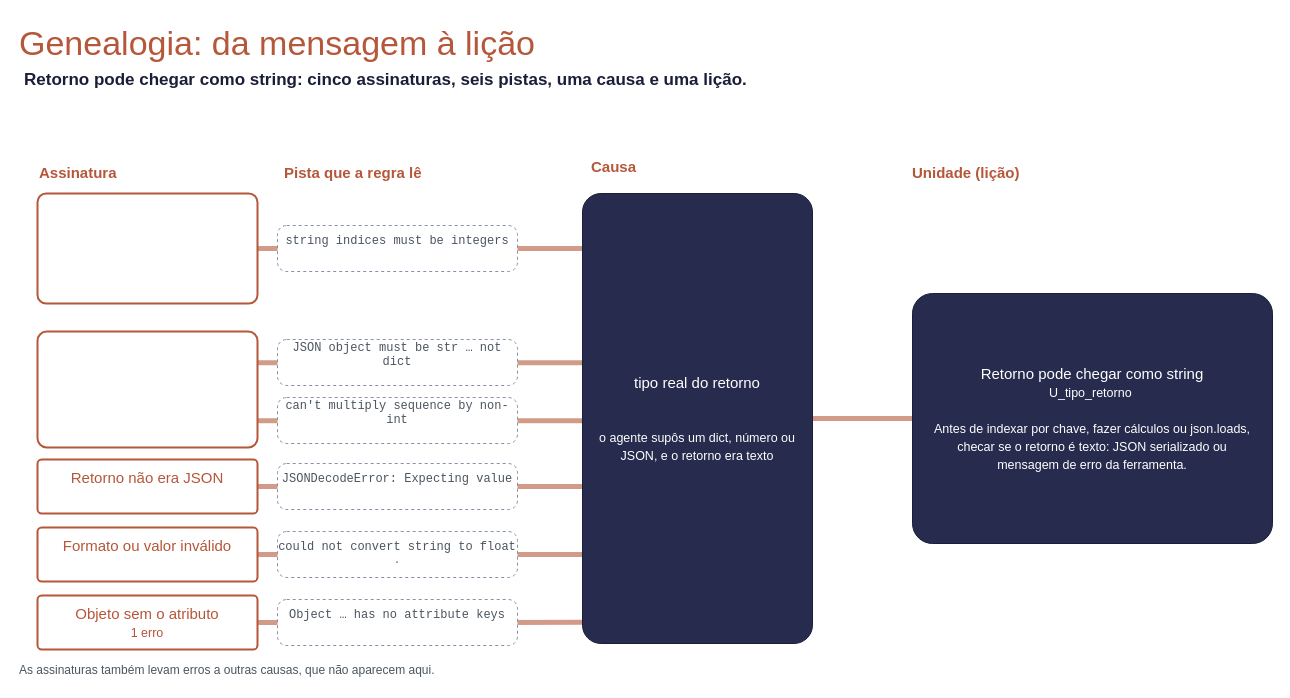
This 1290x698 diagram has some shape labels left out. Here are the shapes that lost their labels. From the top down, the centre of each, then its label:
At point 147,248: "Falha ao indexar o retorno (Could not index)".
At point 147,389: "Tipo diferente do esperado".
